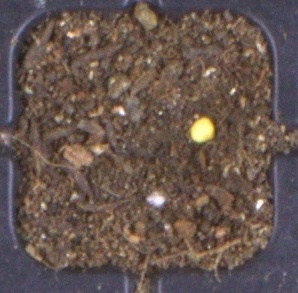chilli seed: (189, 116, 215, 143)
